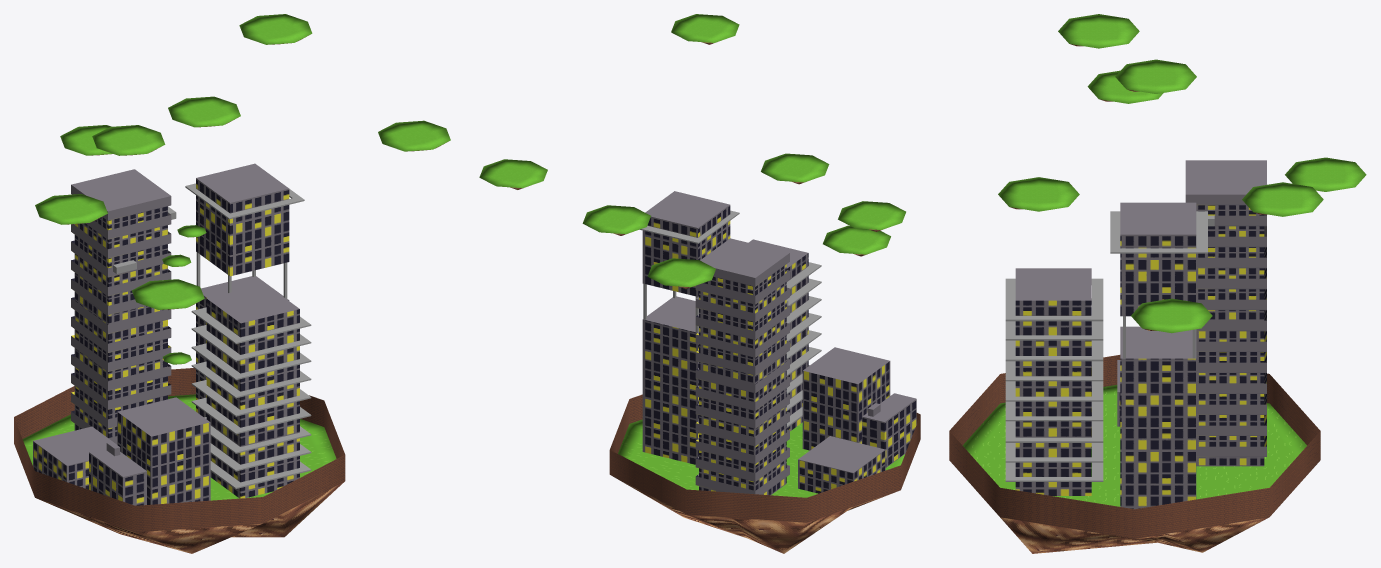
Rendered from leve1.obj.
The picture shows the model from 3 angles, left to right: view 1: azimuth 30°, elevation 25°; view 2: azimuth 150°, elevation 25°; view 3: azimuth 270°, elevation 25°; orthographic projection. The views are drawn at different scales.
Parts seen in each view (by area): view 1: Balconies; view 2: Balconies; view 3: Balconies.
Part boxes in pixels (box(x1,y1,x2,y2)): Balconies: box(14, 14, 450, 553); Balconies: box(479, 14, 920, 553); Balconies: box(949, 14, 1366, 553).
Size of the model in its own units: 211 by 229 by 161.
5 materials, 4 textured.
